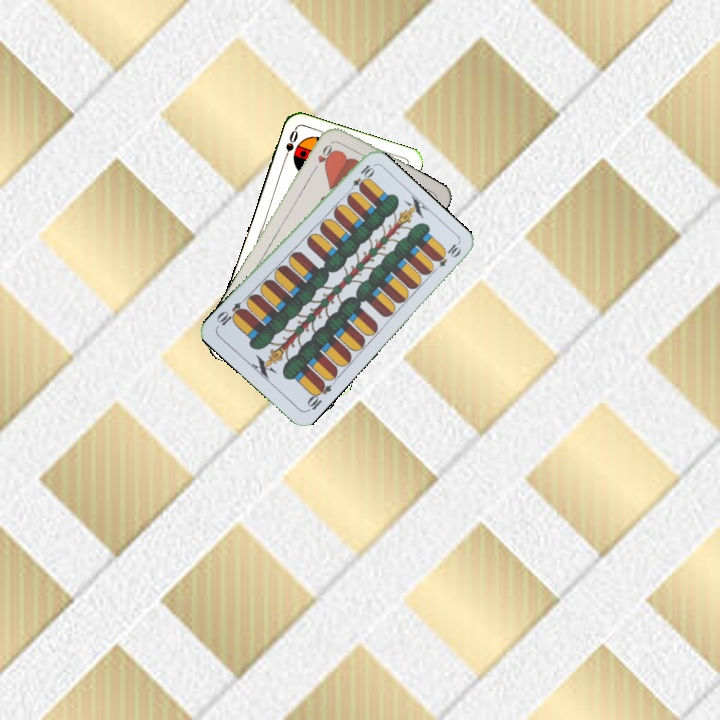E10: (303, 377, 334, 414), (344, 161, 376, 196)
HO: (309, 137, 336, 174)
SO: (279, 126, 301, 165)
